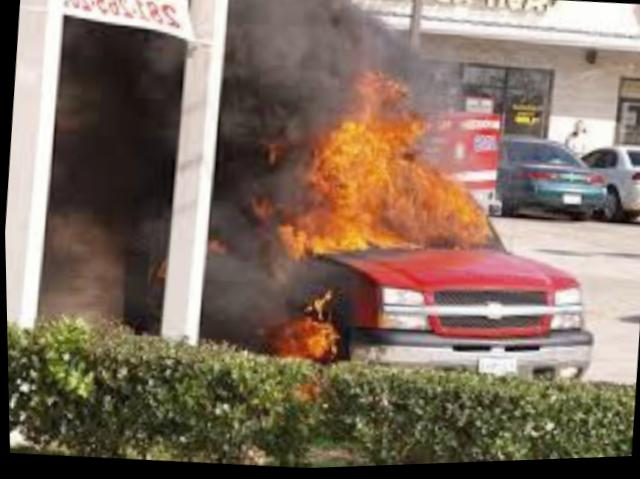fire: (234, 60, 495, 270), (251, 271, 358, 370)
